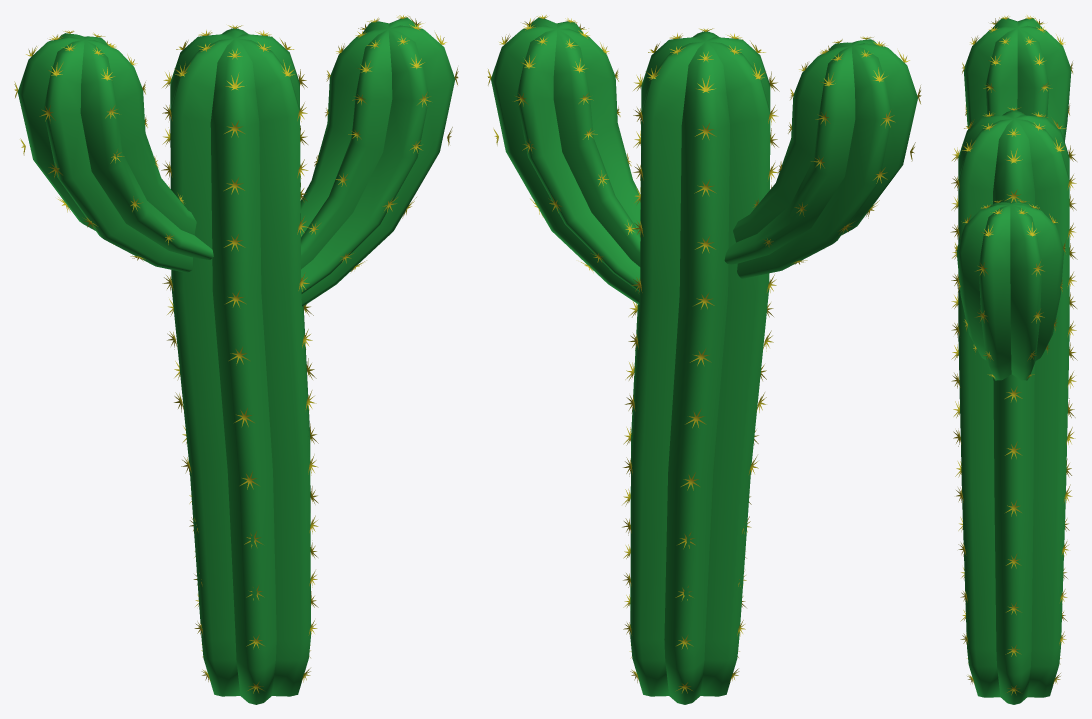
File: cactus.fbx
3 renders of one model, left to right at view 1: azimuth 30°, elevation 25°; view 2: azimuth 150°, elevation 25°; view 3: azimuth 270°, elevation 25°, orthographic. The views are drawn at different scales.
Visible parts, largest first — view 1: Candelabre.1, Candelabre-thorns; view 2: Candelabre.1, Candelabre-thorns; view 3: Candelabre.1, Candelabre-thorns.
Boxes of the visible parts, bbox=[...] form: Candelabre.1: bbox=[17, 17, 455, 704]; Candelabre-thorns: bbox=[14, 15, 458, 693]; Candelabre.1: bbox=[491, 17, 917, 704]; Candelabre-thorns: bbox=[487, 15, 921, 693]; Candelabre.1: bbox=[956, 18, 1071, 704]; Candelabre-thorns: bbox=[950, 15, 1077, 694].
Bounding box in the file's own units: 565 × 895 × 175.
